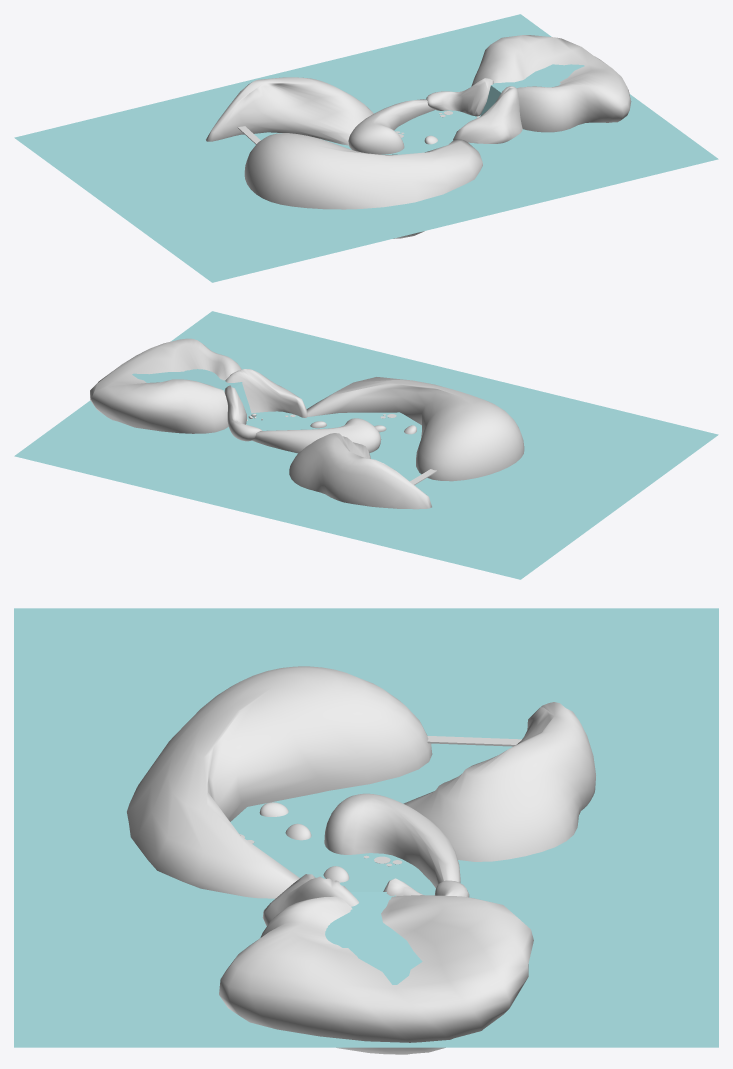
The model's file is EnvironmentDesignBlockout.fbx.
3 renders of one model, top to bottom at view 1: azimuth 30°, elevation 25°; view 2: azimuth 150°, elevation 25°; view 3: azimuth 270°, elevation 25°, orthographic. The views are drawn at different scales.
Parts seen in each view (by area): view 1: Water, Mountain.004, Sphere, Mountain.005, Mountain.003, Mountain.002, Mountain.001, Water.002; view 2: Water, Mountain.004, Sphere, Mountain.005, Mountain.003, Mountain.002, Mountain.001, Water.002; view 3: Water, Mountain.004, Sphere, Mountain.005, Mountain.003, Water.002, Mountain.002, Mountain.001, Bridge.
Boxes of the visible parts, x1,y1,x2,y2 form: Water: [14, 14, 718, 282]; Mountain.004: [244, 133, 482, 238]; Sphere: [471, 35, 631, 132]; Mountain.005: [206, 77, 373, 145]; Mountain.003: [348, 99, 434, 154]; Mountain.002: [453, 86, 522, 143]; Mountain.001: [426, 78, 493, 116]; Water.002: [491, 64, 584, 92]; Water: [14, 311, 718, 579]; Mountain.004: [307, 377, 524, 481]; Sphere: [90, 338, 241, 433]; Mountain.005: [289, 433, 431, 509]; Mountain.003: [252, 418, 381, 453]; Mountain.002: [225, 369, 307, 417]; Mountain.001: [224, 385, 262, 441]; Water.002: [132, 369, 241, 391]; Water: [14, 608, 718, 1047]; Mountain.004: [127, 666, 432, 898]; Sphere: [219, 895, 533, 1054]; Mountain.005: [403, 702, 595, 861]; Mountain.003: [324, 793, 460, 887]; Water.002: [325, 892, 422, 984]; Mountain.002: [262, 874, 358, 925]; Mountain.001: [383, 878, 469, 897]; Bridge: [427, 736, 521, 746].
Bounding box in the file's own units: 115729 × 19568 × 78439.
